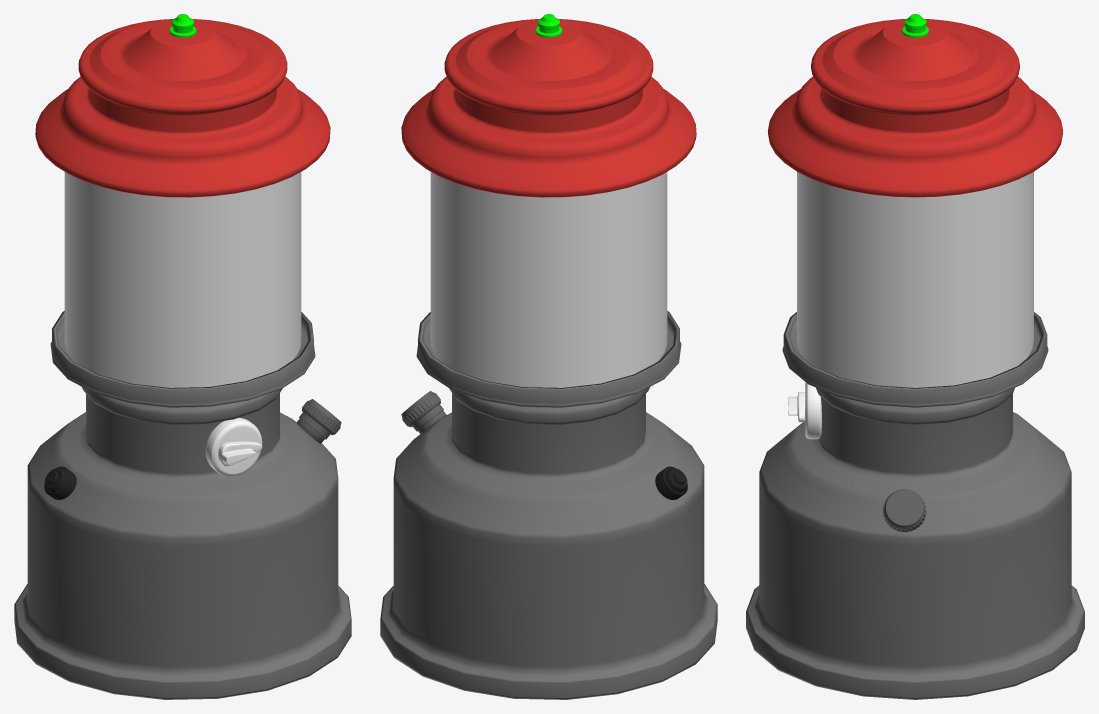
File: lantern.fbx
The picture shows the model from 3 angles, left to right: view 1: azimuth 30°, elevation 25°; view 2: azimuth 150°, elevation 25°; view 3: azimuth 270°, elevation 25°; orthographic projection.
Parts seen in each view (by area): view 1: pCylinder36 (×7); view 2: pCylinder36 (×5); view 3: pCylinder36 (×5).
Part boxes in pixels (left/top/right/bottom): pCylinder36 (×7): left=14, top=19, right=351, bottom=699; pCylinder36 (×5): left=380, top=19, right=717, bottom=699; pCylinder36 (×5): left=746, top=19, right=1084, bottom=699.
Size of the model in its own units: 12.72 by 25.1 by 12.6.
